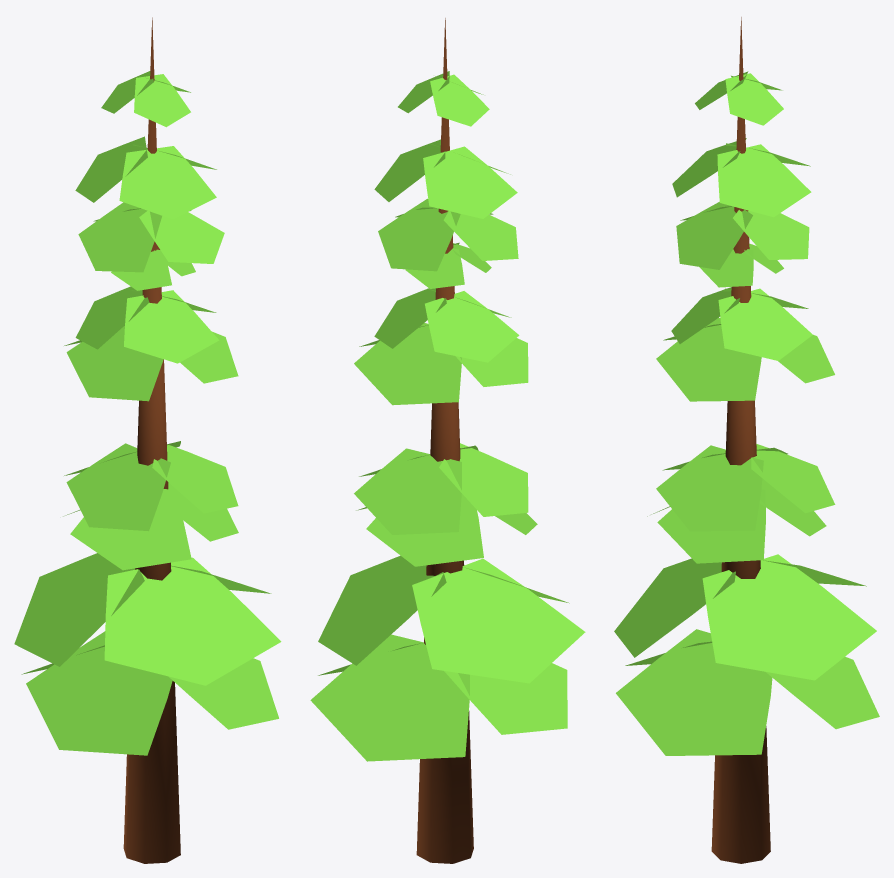
Rendered from smrek_3.fbx.
The picture shows the model from 3 angles, left to right: view 1: azimuth 30°, elevation 25°; view 2: azimuth 150°, elevation 25°; view 3: azimuth 270°, elevation 25°; orthographic projection.
Visible parts, largest first — view 1: Cylinder.001; view 2: Cylinder.001; view 3: Cylinder.001.
Boxes of the visible parts, box(x1,y1,x2,y2) form: Cylinder.001: box(14, 17, 281, 863); Cylinder.001: box(310, 18, 585, 863); Cylinder.001: box(614, 17, 879, 863).
Bounding box in the file's own units: 414 × 422 × 1438.
